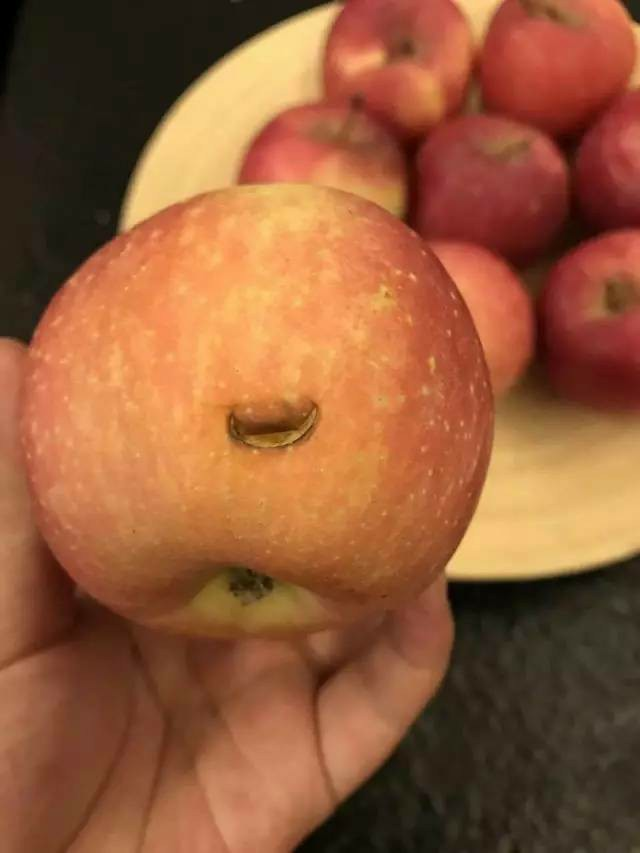rotten_apple: (31, 186, 496, 631)
